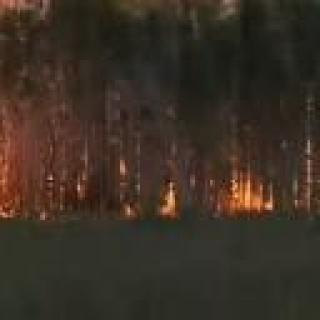fire: (111, 146, 181, 224), (226, 159, 278, 220), (0, 28, 13, 221)
